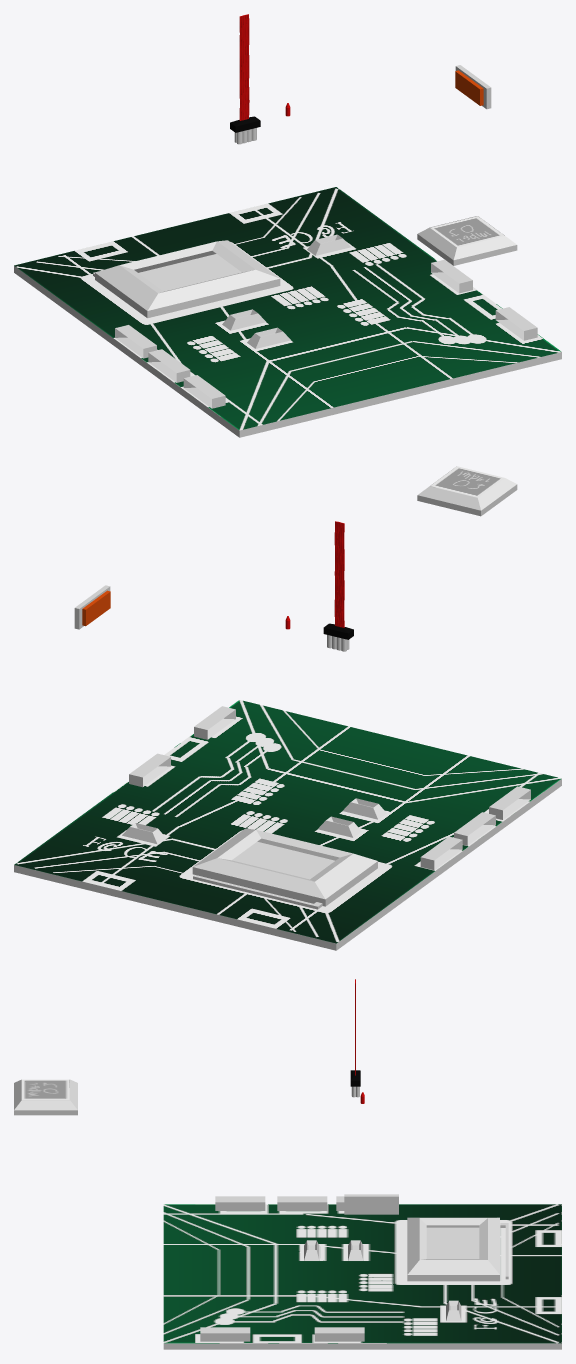
The model's file is mobo.fbx.
3 views of the same model, one above another, from view 1: azimuth 30°, elevation 25°; view 2: azimuth 150°, elevation 25°; view 3: azimuth 270°, elevation 25° (orthographic). The views are drawn at different scales.
Visible parts, largest first — view 1: Cube, Cube.001, Cube.011, Cube.005, Cube.006, Cube.004, Cube.007, Cube.008, Cube.012, Cube.002, Cube.003, Cube.009; view 2: Cube, Cube.001, Cube.011, Cube.008, Cube.005, Cube.004, Cube.006, Cube.007; view 3: Cube, Cube.001, Cube.011, Cube.013, Cube.004, Cube.005, Cube.006, Cube.007.
Boxes of the visible parts, box(x1,y1,x2,y2) form: Cube: box(14, 187, 561, 437); Cube.001: box(93, 240, 280, 318); Cube.011: box(417, 216, 517, 265); Cube.005: box(495, 307, 537, 340); Cube.006: box(183, 375, 225, 408); Cube.004: box(431, 259, 472, 293); Cube.007: box(148, 349, 190, 382); Cube.008: box(115, 325, 156, 358); Cube.012: box(455, 70, 483, 105); Cube.002: box(222, 309, 265, 330); Cube.003: box(247, 327, 290, 348); Cube.009: box(307, 234, 350, 255); Cube: box(14, 700, 561, 950); Cube.001: box(192, 828, 377, 909); Cube.011: box(417, 466, 517, 516); Cube.008: box(420, 836, 462, 870); Cube.005: box(194, 706, 235, 739); Cube.004: box(129, 753, 170, 787); Cube.006: box(489, 786, 530, 819); Cube.007: box(454, 812, 495, 845); Cube: box(163, 1204, 561, 1349); Cube.001: box(407, 1217, 508, 1281); Cube.011: box(14, 1079, 77, 1115); Cube.013: box(344, 1194, 398, 1214); Cube.004: box(314, 1327, 364, 1341); Cube.005: box(200, 1327, 250, 1341); Cube.006: box(215, 1196, 265, 1210); Cube.007: box(277, 1196, 327, 1210).
Bounding box in the file's own units: 1963 × 1670 × 2979.
7 materials, 2 textured.
